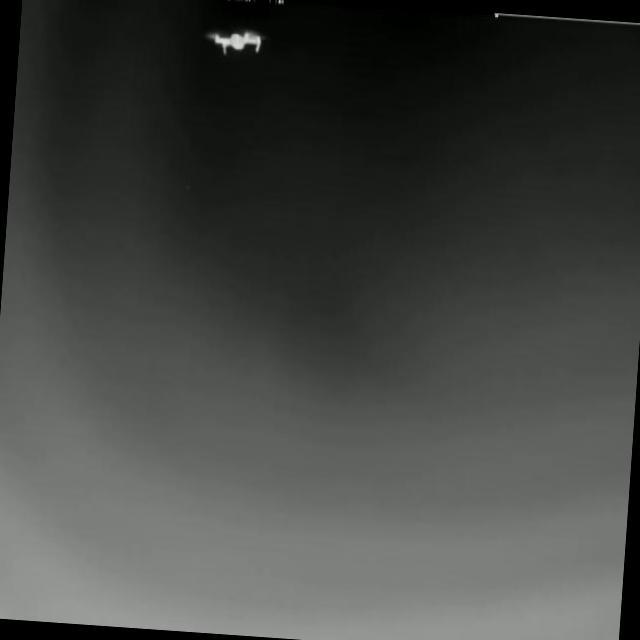DRONE: (201, 29, 270, 56)
